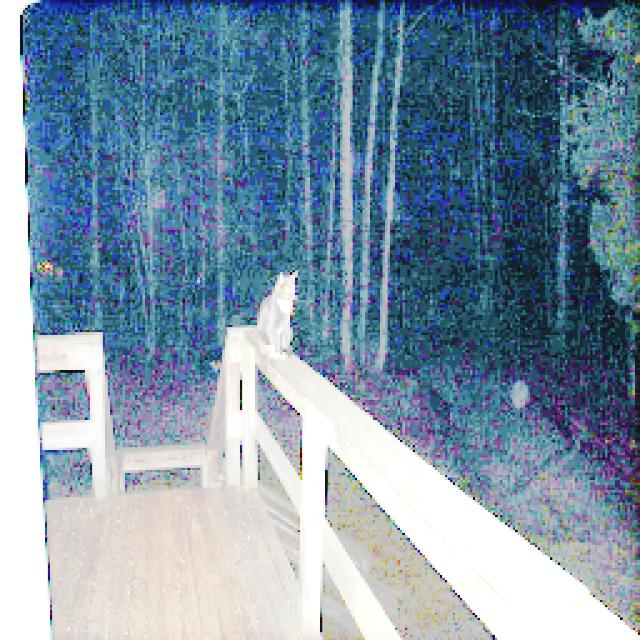cat: (251, 266, 301, 366)
